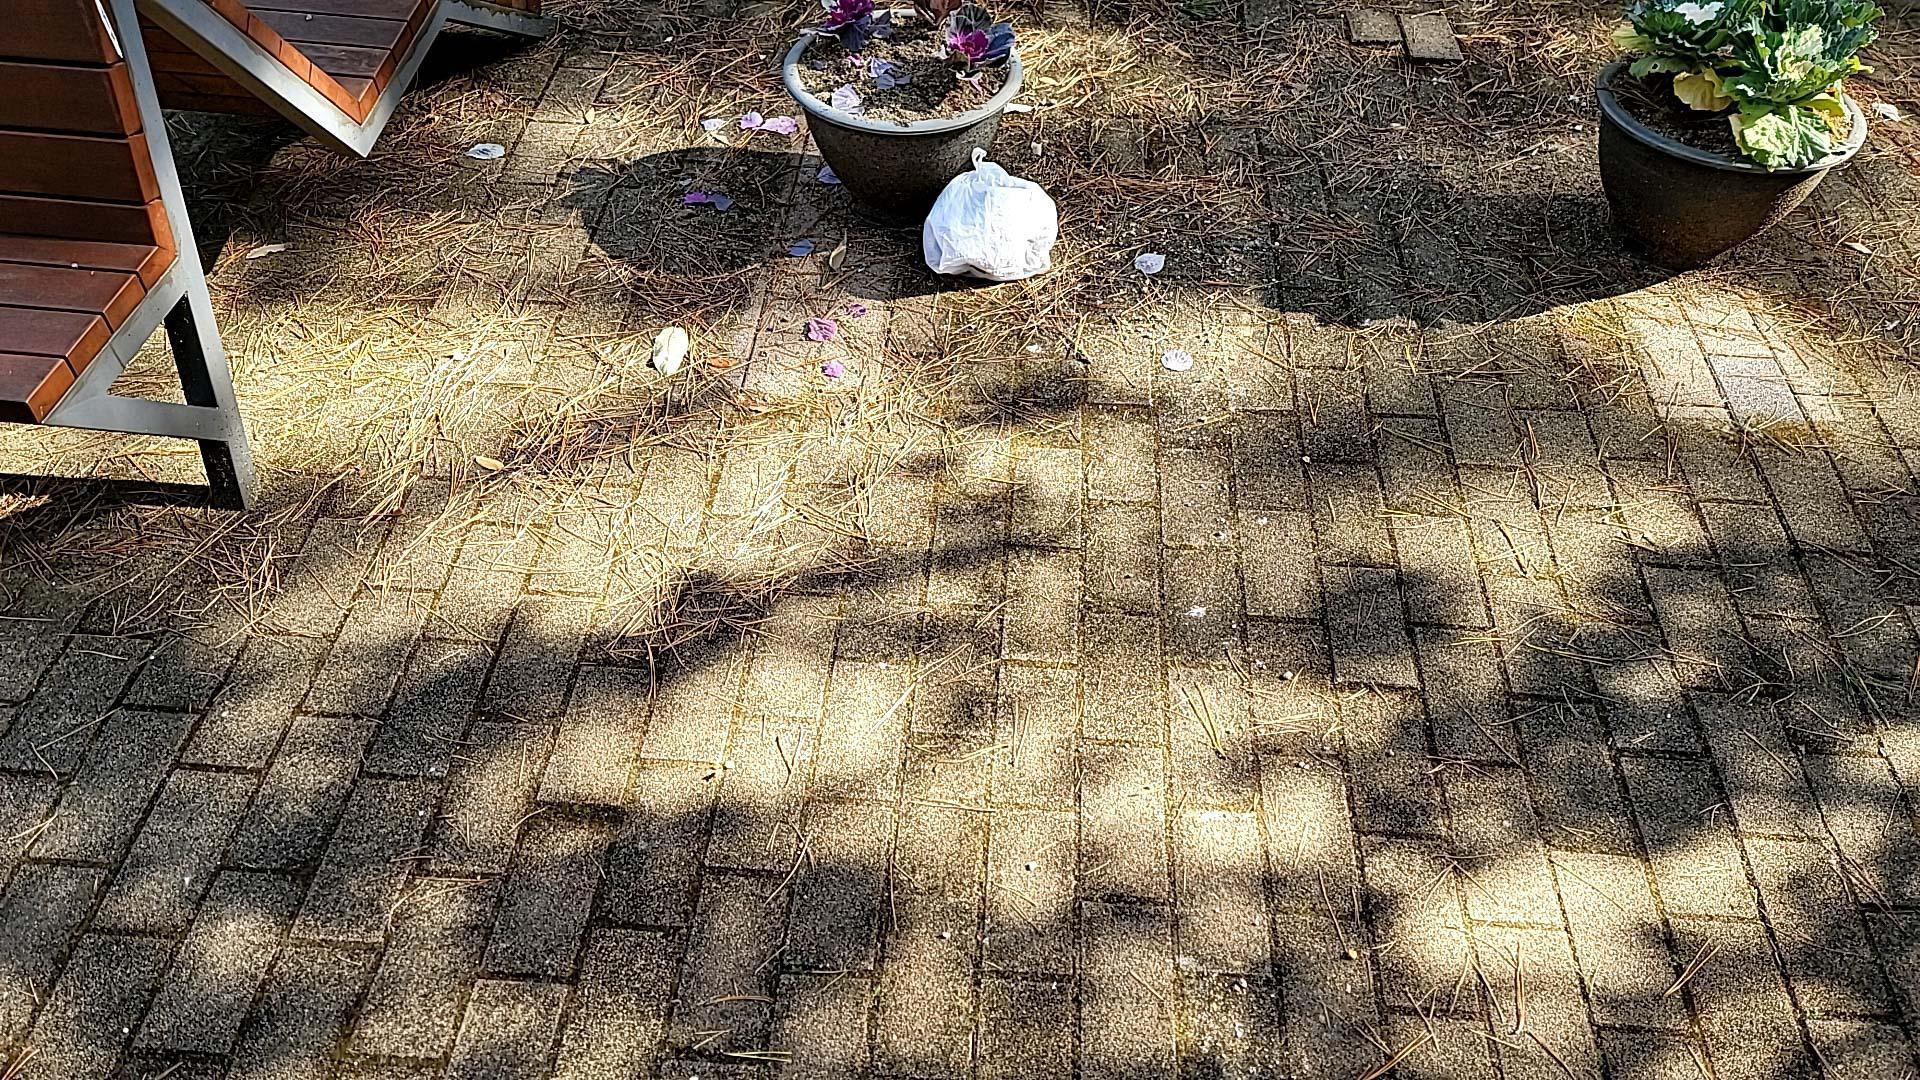white_bag: (909, 144, 1063, 293)
